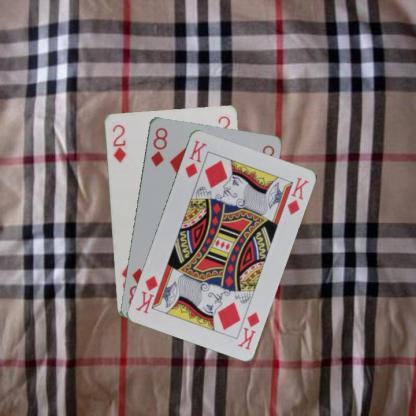2d: (110, 122, 127, 163)
8d: (148, 124, 169, 168)
Kd: (182, 137, 208, 179), (235, 309, 260, 351)
